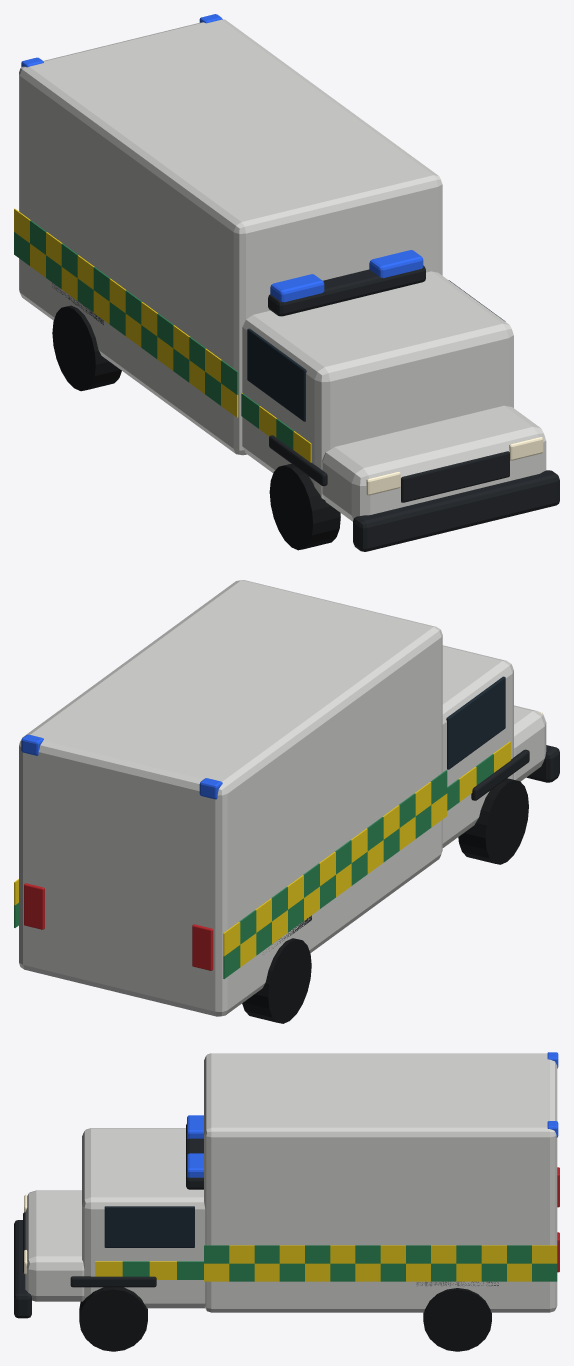
Rendered from ambulanse.glb.
3 views of the same model, one above another, from view 1: azimuth 30°, elevation 25°; view 2: azimuth 150°, elevation 25°; view 3: azimuth 270°, elevation 25° (orthographic). The views are drawn at different scales.
Visible parts, largest first — view 1: Kasse, Forerhus, Panser, Stotfanger, Hjul+0-1, Hjul+0+1, Siderute-1, Lysbjelke, Grill, Blalys+0, Blalys+0.001, Hjulbue; view 2: Kasse, Forerhus, Hjul+0-1, Hjul+0+1, Siderute-1, Panser, Baklys+0, Hjulbue, Baklys+0.001, Stotfanger; view 3: Kasse, Forerhus, Panser, Siderute+1, Hjul+0-1.001, Hjul+0+1.001, Stotfanger, Hjulbue.001, Lysbjelke, RuteF1_3, RuteF1_2, Rute1_0_1 (+31 smaller).
Boxes of the visible parts, x1,y1,x2,y2 form: Kasse: (19, 19, 442, 455); Forerhus: (242, 271, 513, 499); Panser: (322, 405, 546, 521); Stotfanger: (353, 470, 559, 551); Hjul+0-1: (269, 464, 340, 550); Hjul+0+1: (52, 305, 121, 391); Siderute-1: (247, 328, 306, 421); Lysbjelke: (268, 265, 425, 316); Grill: (401, 451, 509, 502); Blalys+0: (270, 274, 324, 302); Blalys+0.001: (369, 250, 423, 278); Hjulbue: (269, 435, 327, 486); Kasse: (19, 580, 442, 1016); Forerhus: (442, 645, 513, 847); Hjul+0-1: (458, 778, 528, 864); Hjul+0+1: (242, 938, 311, 1023); Siderute-1: (446, 676, 505, 769); Panser: (514, 705, 546, 781); Baklys+0: (192, 924, 213, 970); Hjulbue: (471, 749, 529, 800); Baklys+0.001: (24, 883, 44, 929); Stotfanger: (526, 745, 559, 782); Kasse: (204, 1053, 557, 1312); Forerhus: (82, 1128, 205, 1308); Panser: (25, 1190, 84, 1301); Siderute+1: (104, 1206, 194, 1247); Hjul+0-1.001: (79, 1287, 147, 1351); Hjul+0+1.001: (423, 1288, 491, 1351); Stotfanger: (14, 1220, 31, 1318); Hjulbue.001: (70, 1276, 156, 1287); Lysbjelke: (186, 1124, 203, 1189); RuteF1_3: (177, 1261, 203, 1279); RuteF1_2: (149, 1261, 176, 1279); Rute1_0_1: (204, 1245, 229, 1263).
Bounding box in the file's own units: 2.18 × 2.69 × 6.03.
